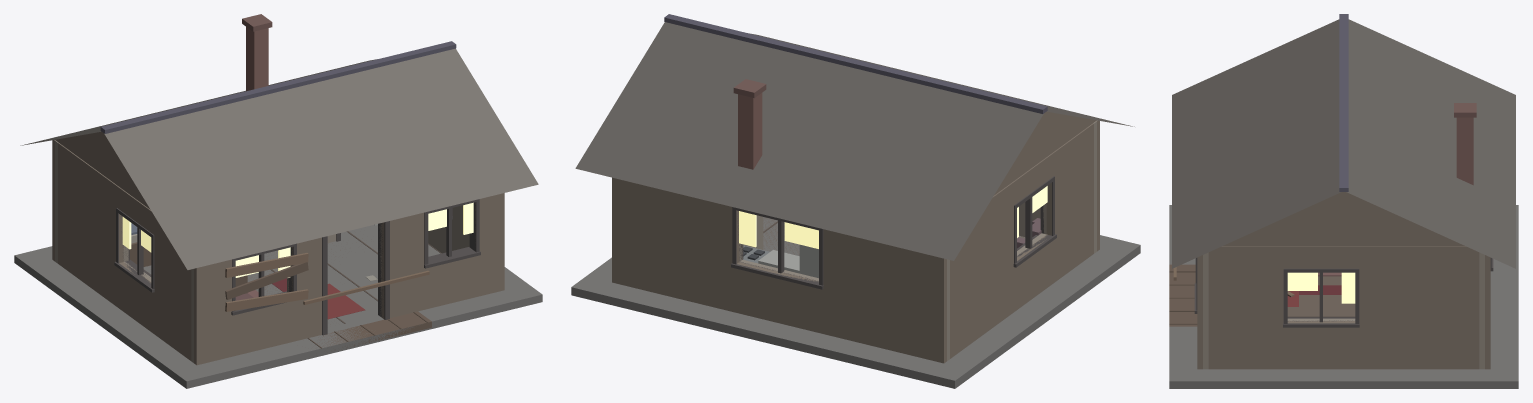
The model's file is casa_01_chale_pequeno.glb.
3 views of the same model, side by side, from view 1: azimuth 30°, elevation 25°; view 2: azimuth 150°, elevation 25°; view 3: azimuth 270°, elevation 25° (orthographic). The views are drawn at different scales.
Visible parts, largest first — view 1: roof, wall_south, floor, walls_exterior, decor_grim, exterior_props, chimney, glass, furniture; view 2: roof, walls_exterior, floor, chimney, furniture, glass, wall_south; view 3: roof, walls_exterior, floor, exterior_props, wall_south, chimney, glass, decor_grim.
Boxes of the visible parts, box(x1,y1,x2,y2) form: roof: box(20, 41, 538, 269); wall_south: box(191, 193, 504, 365); floor: box(14, 225, 542, 388); walls_exterior: box(52, 140, 469, 360); decor_grim: box(225, 253, 377, 319); exterior_props: box(303, 270, 431, 350); chimney: box(242, 14, 272, 91); glass: box(122, 202, 473, 277); furniture: box(129, 223, 377, 300); roof: box(575, 14, 1134, 260); walls_exterior: box(612, 123, 1093, 363); floor: box(571, 217, 1140, 388); chimney: box(733, 79, 766, 169); furniture: box(743, 218, 1041, 278); glass: box(739, 186, 1047, 248); wall_south: box(1019, 120, 1099, 253); roof: box(1172, 14, 1515, 268); walls_exterior: box(1208, 246, 1493, 369); floor: box(1169, 205, 1518, 388); exterior_props: box(1169, 264, 1197, 326); wall_south: box(1194, 252, 1208, 369); chimney: box(1454, 103, 1476, 185); glass: box(1287, 272, 1355, 303); decor_grim: box(1287, 285, 1341, 306).
Size of the model in its own units: 7.4 by 4.15 by 6.2.
